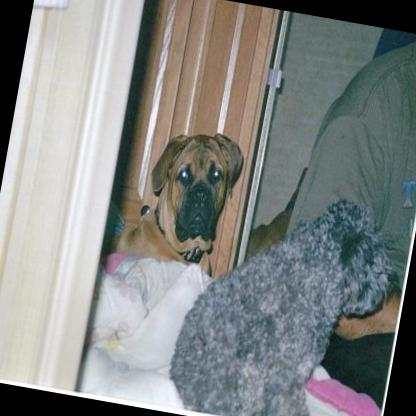bull_mastiff: (100, 112, 248, 282)
